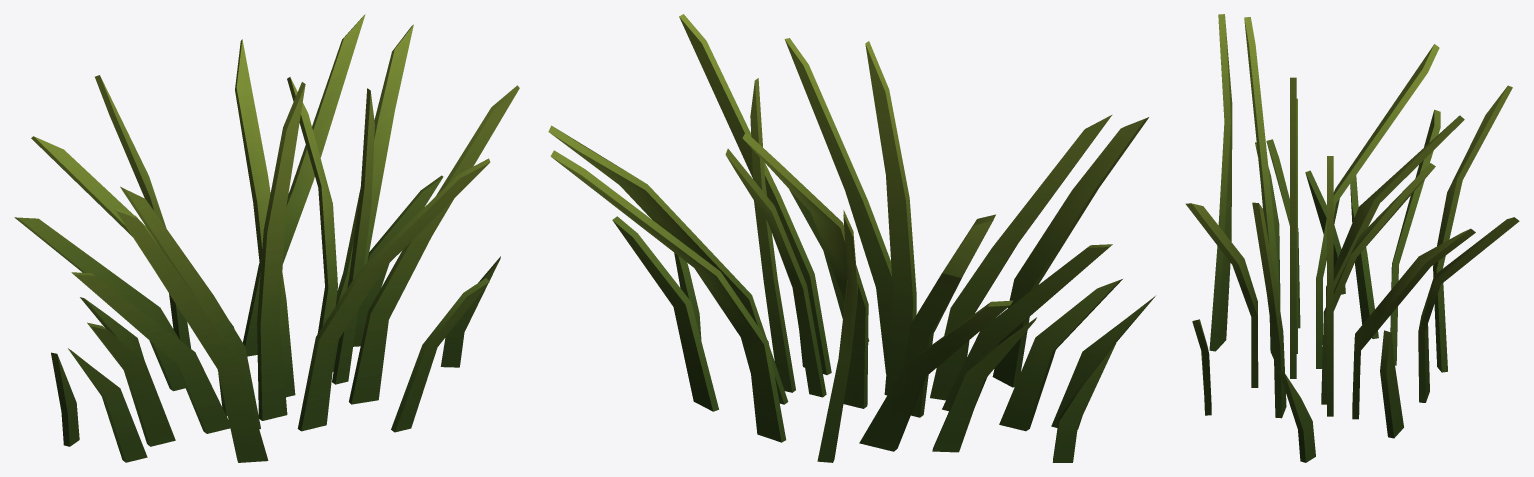
The model's file is grass_large_extruded.glb.
3 views of the same model, side by side, from view 1: azimuth 30°, elevation 25°; view 2: azimuth 150°, elevation 25°; view 3: azimuth 270°, elevation 25° (orthographic). The views are drawn at different scales.
Visible parts, largest first — view 1: Grass_Large_Extruded; view 2: Grass_Large_Extruded; view 3: Grass_Large_Extruded.
Part boxes in pixels (box(x1,y1,x2,y2)): Grass_Large_Extruded: box(14, 14, 519, 462); Grass_Large_Extruded: box(548, 14, 1155, 462); Grass_Large_Extruded: box(1185, 14, 1519, 462).
Size of the model in its own units: 0.7447 by 0.5089 by 0.4973.
Materials: 1 (1 with a texture image).
